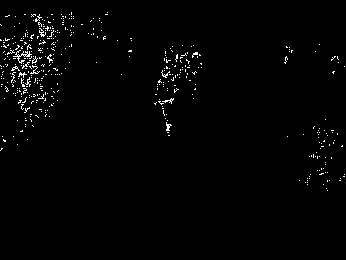person: (156, 67, 181, 138)
